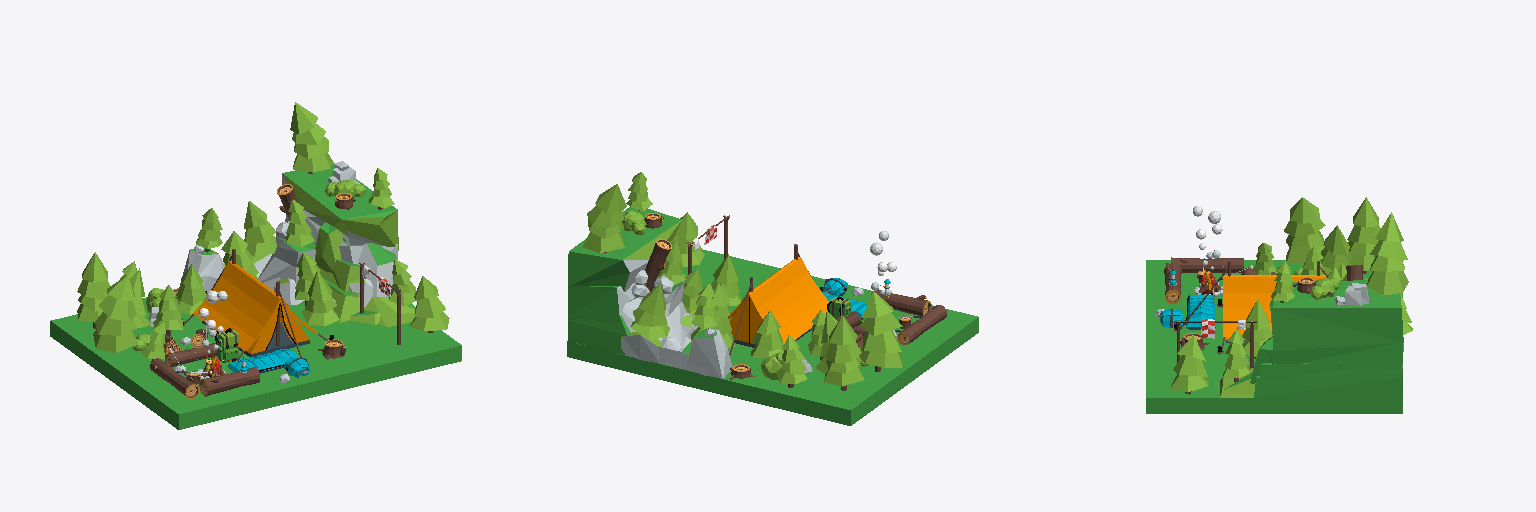
Rendered from camping.obj.
3 views of the same model, side by side, from view 1: azimuth 30°, elevation 25°; view 2: azimuth 150°, elevation 25°; view 3: azimuth 270°, elevation 25° (orthographic).
Visible parts, largest first — view 1: group[number redacted], group[number redacted], group[number redacted], group[number redacted], group[number redacted], group[number redacted], group[number redacted], group[number redacted], group[number redacted], group[number redacted], group[number redacted], group[number redacted] (+21 smaller); view 2: group[number redacted], group[number redacted], group[number redacted], group[number redacted], group[number redacted], group[number redacted], group[number redacted], group[number redacted], group[number redacted], group[number redacted], group[number redacted], group[number redacted] (+14 smaller); view 3: group[number redacted], group[number redacted], group[number redacted], group[number redacted], group[number redacted], group[number redacted], group[number redacted], group[number redacted], group[number redacted], group[number redacted], group[number redacted], group[number redacted] (+8 smaller).
Boxes of the visible parts, x1=… form: group[number redacted]: x1=50, y1=297, x2=461, y2=429; group[number redacted]: x1=282, y1=164, x2=398, y2=250; group[number redacted]: x1=193, y1=261, x2=280, y2=350; group[number redacted]: x1=93, y1=275, x2=137, y2=352; group[number redacted]: x1=290, y1=102, x2=333, y2=173; group[number redacted]: x1=77, y1=252, x2=109, y2=328; group[number redacted]: x1=258, y1=237, x2=316, y2=303; group[number redacted]: x1=410, y1=276, x2=449, y2=332; group[number redacted]: x1=244, y1=201, x2=276, y2=256; group[number redacted]: x1=302, y1=270, x2=339, y2=325; group[number redacted]: x1=357, y1=243, x2=396, y2=296; group[number redacted]: x1=315, y1=222, x2=342, y2=272; group[number redacted]: x1=567, y1=249, x2=978, y2=425; group[number redacted]: x1=568, y1=207, x2=681, y2=291; group[number redacted]: x1=749, y1=257, x2=828, y2=345; group[number redacted]: x1=859, y1=291, x2=902, y2=371; group[number redacted]: x1=583, y1=184, x2=626, y2=252; group[number redacted]: x1=568, y1=268, x2=645, y2=323; group[number redacted]: x1=824, y1=315, x2=864, y2=390; group[number redacted]: x1=621, y1=332, x2=707, y2=375; group[number redacted]: x1=687, y1=328, x2=732, y2=378; group[number redacted]: x1=631, y1=284, x2=669, y2=338; group[number redacted]: x1=622, y1=282, x2=690, y2=350; group[number redacted]: x1=568, y1=321, x2=625, y2=354; group[number redacted]: x1=1146, y1=260, x2=1402, y2=413; group[number redacted]: x1=1269, y1=280, x2=1403, y2=350; group[number redacted]: x1=1254, y1=369, x2=1402, y2=397; group[number redacted]: x1=1272, y1=343, x2=1402, y2=368; group[number redacted]: x1=1223, y1=275, x2=1325, y2=336; group[number redacted]: x1=1367, y1=212, x2=1408, y2=295; group[number redacted]: x1=1260, y1=362, x2=1401, y2=379; group[number redacted]: x1=1284, y1=197, x2=1325, y2=263; group[number redacted]: x1=1347, y1=197, x2=1380, y2=273; group[number redacted]: x1=1170, y1=335, x2=1208, y2=394; group[number redacted]: x1=1320, y1=225, x2=1351, y2=277; group[number redacted]: x1=1242, y1=300, x2=1272, y2=358.
Size of the model in its own units: 6.38 by 3.73 by 5.